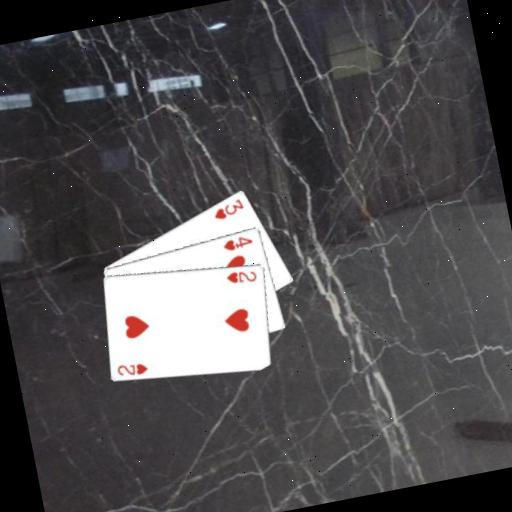2H: (223, 264, 260, 288), (113, 358, 151, 381)
3H: (209, 195, 247, 223)
4H: (219, 232, 255, 255)
